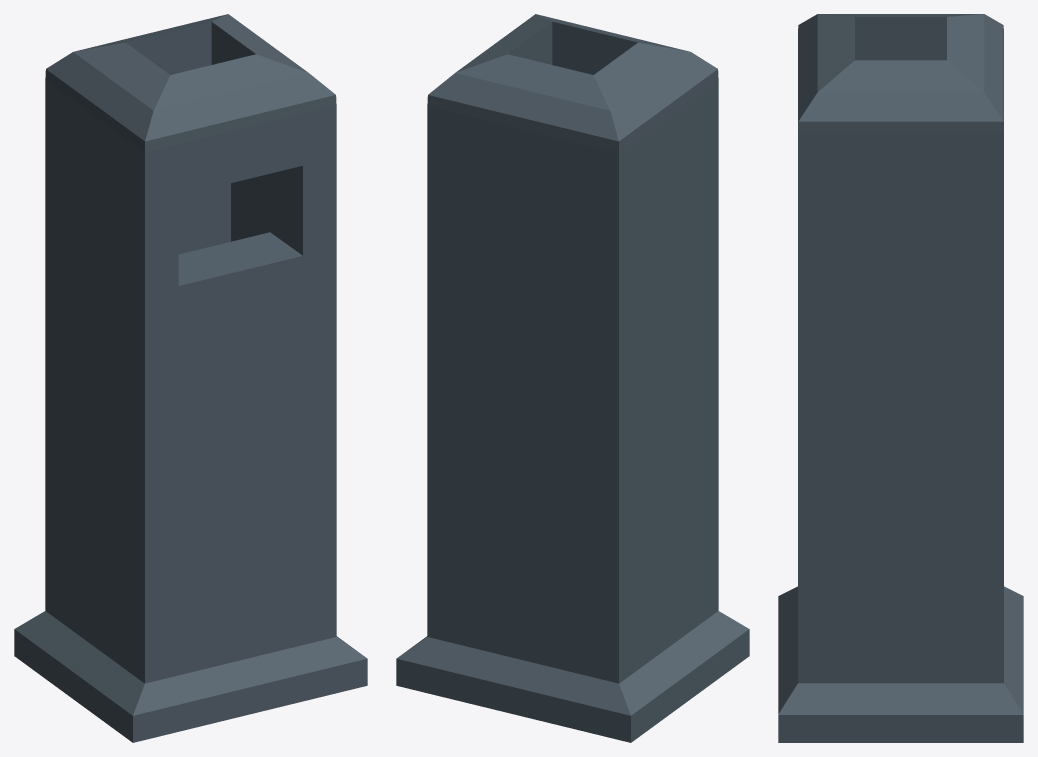
The model's file is trashcan.fbx.
The picture shows the model from 3 angles, left to right: view 1: azimuth 30°, elevation 25°; view 2: azimuth 150°, elevation 25°; view 3: azimuth 270°, elevation 25°; orthographic projection. The views are drawn at different scales.
Parts seen in each view (by area): view 1: trashcan; view 2: trashcan; view 3: trashcan.
Part boxes in pixels (x1=…): trashcan: x1=14, y1=14, x2=367, y2=742; trashcan: x1=396, y1=14, x2=749, y2=742; trashcan: x1=778, y1=14, x2=1023, y2=742.
Bounding box in the file's own units: 0.2428 × 0.6159 × 0.2126.
